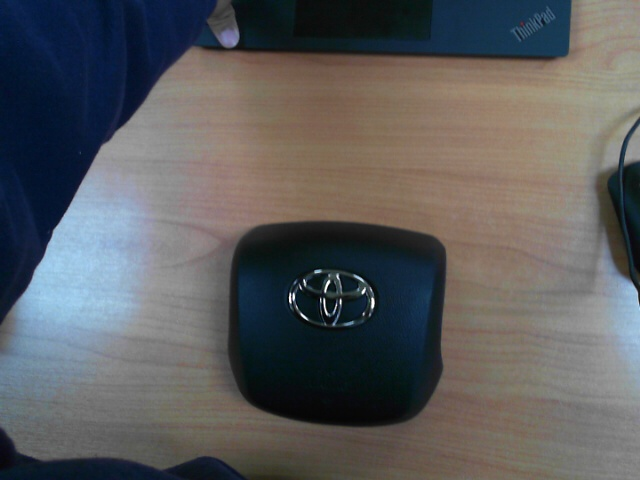Airbag: (224, 217, 451, 432)
